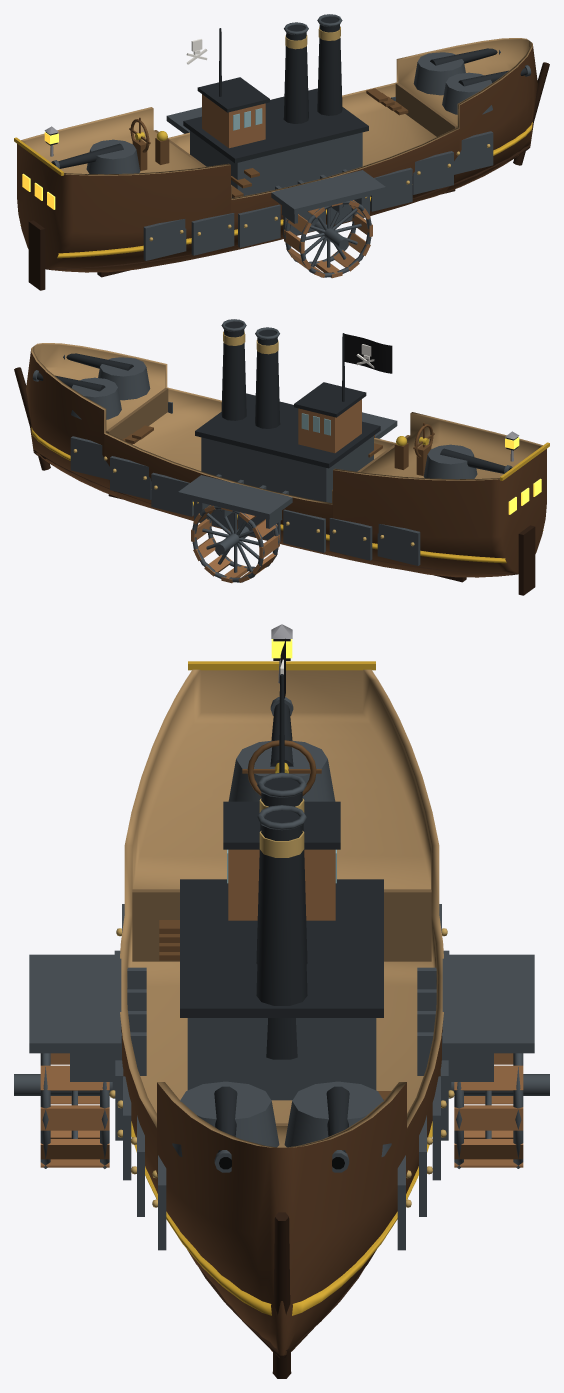
Rendered from steam-gunboat-3g-ironclad.glb.
3 views of the same model, one above another, from view 1: azimuth 30°, elevation 25°; view 2: azimuth 150°, elevation 25°; view 3: azimuth 270°, elevation 25° (orthographic). The views are drawn at different scales.
Parts seen in each view (by area): view 1: Mesh_Hull, Mesh_DeckAndBulwarks, Mesh_BoilerHouse, Mesh_BoilerRoof, Mesh_PaddleCover_1, Mesh_Smokestack_2, Mesh_Smokestack_0.5, Mesh_PilotHouse, Mesh_HullArmorPlate_11, Mesh_HullArmorPlate_10, Mesh_PilotRoof, Mesh_HullArmorPlate_12 (+19 smaller); view 2: Mesh_Hull, Mesh_DeckAndBulwarks, Mesh_BoilerHouse, Mesh_BoilerRoof, Mesh_PaddleCover_-1, Mesh_Smokestack_2, Mesh_Smokestack_0.5, Mesh_PilotHouse, Mesh_HullArmorPlate_-11, Mesh_HullArmorPlate_-10, Mesh_PilotRoof, Mesh_HullArmorPlate_-12 (+20 smaller); view 3: Mesh_DeckAndBulwarks, Mesh_Hull, Mesh_BoilerRoof, Mesh_BoilerHouse, Mesh_PaddleCover_-1, Mesh_PaddleCover_1, Mesh_Smokestack_2, Mesh_QuarterBulkhead, Mesh_PilotHouse, Mesh_PilotRoof, Mesh_NavalTurret_0, Mesh_NavalTurret_2 (+17 smaller).
Boxes of the visible parts, x1=… form: Mesh_Hull: x1=17, y1=44, x2=537, y2=272; Mesh_DeckAndBulwarks: x1=21, y1=38, x2=532, y2=199; Mesh_BoilerHouse: x1=190, y1=131, x2=362, y2=197; Mesh_BoilerRoof: x1=183, y1=88, x2=368, y2=163; Mesh_PaddleCover_1: x1=271, y1=170, x2=385, y2=214; Mesh_Smokestack_2: x1=317, y1=16, x2=342, y2=115; Mesh_Smokestack_0.5: x1=283, y1=25, x2=308, y2=123; Mesh_PilotHouse: x1=202, y1=94, x2=265, y2=148; Mesh_HullArmorPlate_11: x1=191, y1=213, x2=234, y2=255; Mesh_HullArmorPlate_10: x1=143, y1=219, x2=186, y2=260; Mesh_PilotRoof: x1=197, y1=77, x2=269, y2=112; Mesh_HullArmorPlate_12: x1=238, y1=204, x2=280, y2=247; Mesh_Hull: x1=26, y1=349, x2=546, y2=577; Mesh_DeckAndBulwarks: x1=31, y1=343, x2=542, y2=504; Mesh_BoilerHouse: x1=201, y1=436, x2=373, y2=502; Mesh_BoilerRoof: x1=195, y1=393, x2=380, y2=468; Mesh_PaddleCover_-1: x1=178, y1=475, x2=292, y2=519; Mesh_Smokestack_2: x1=221, y1=321, x2=246, y2=420; Mesh_Smokestack_0.5: x1=255, y1=330, x2=280, y2=428; Mesh_PilotHouse: x1=298, y1=399, x2=361, y2=453; Mesh_HullArmorPlate_-11: x1=329, y1=518, x2=372, y2=560; Mesh_HullArmorPlate_-10: x1=377, y1=524, x2=420, y2=565; Mesh_PilotRoof: x1=294, y1=382, x2=366, y2=417; Mesh_HullArmorPlate_-12: x1=283, y1=509, x2=325, y2=552; Mesh_DeckAndBulwarks: x1=120, y1=669, x2=443, y2=1147; Mesh_Hull: x1=121, y1=1027, x2=442, y2=1355; Mesh_BoilerRoof: x1=180, y1=879, x2=383, y2=1017; Mesh_BoilerHouse: x1=187, y1=1018, x2=376, y2=1100; Mesh_PaddleCover_-1: x1=442, y1=954, x2=534, y2=1053; Mesh_PaddleCover_1: x1=29, y1=954, x2=121, y2=1053; Mesh_Smokestack_2: x1=256, y1=810, x2=307, y2=1059; Mesh_QuarterBulkhead: x1=132, y1=889, x2=431, y2=961; Mesh_PilotHouse: x1=228, y1=849, x2=335, y2=920; Mesh_PilotRoof: x1=223, y1=801, x2=340, y2=849; Mesh_NavalTurret_0: x1=284, y1=1081, x2=391, y2=1156; Mesh_NavalTurret_2: x1=172, y1=1081, x2=279, y2=1156.
Bounding box in the file's own units: 23.03 × 9.35 × 10.5.
